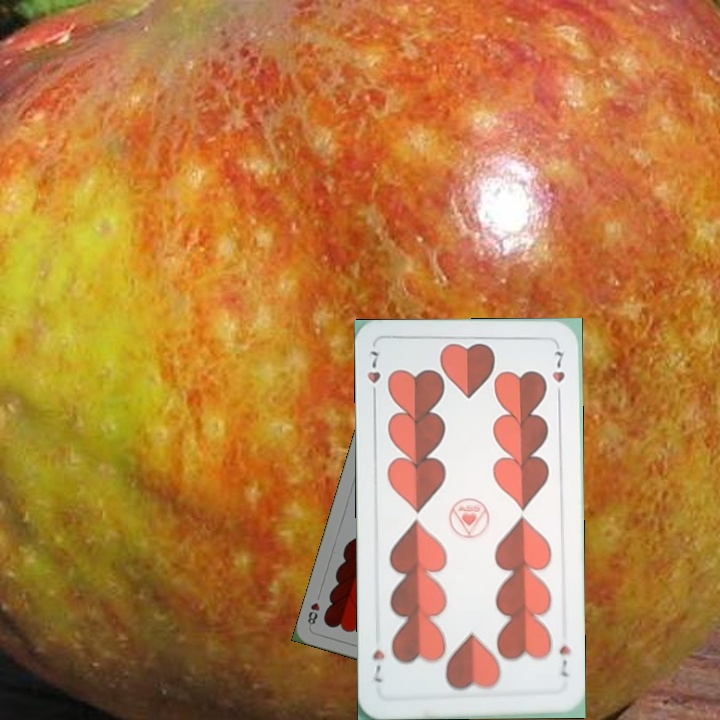H7: (363, 346, 383, 403), (555, 641, 573, 680)
